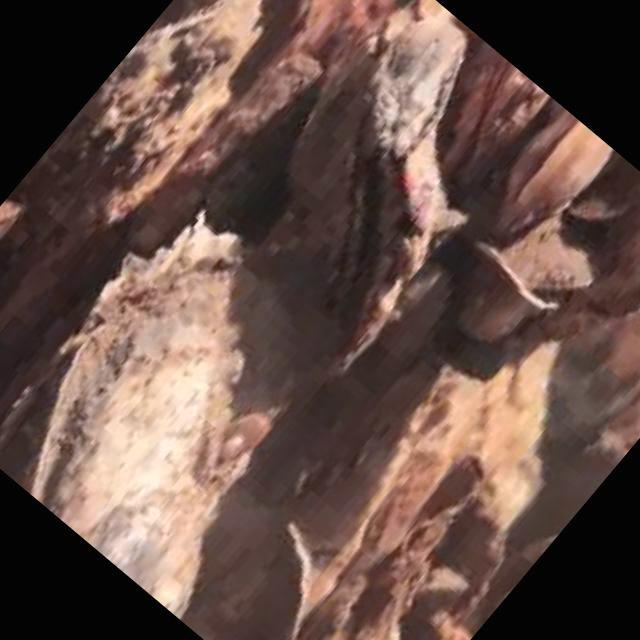Oyster-Closed: (0, 223, 284, 621), (18, 0, 263, 241), (121, 52, 316, 245), (365, 17, 456, 160), (546, 196, 639, 332), (547, 313, 639, 435), (233, 0, 317, 91), (253, 523, 315, 639), (503, 228, 593, 286), (570, 183, 633, 221), (418, 566, 469, 607)
Oyster-Open: (271, 37, 434, 367), (439, 44, 547, 194), (493, 112, 611, 231)
